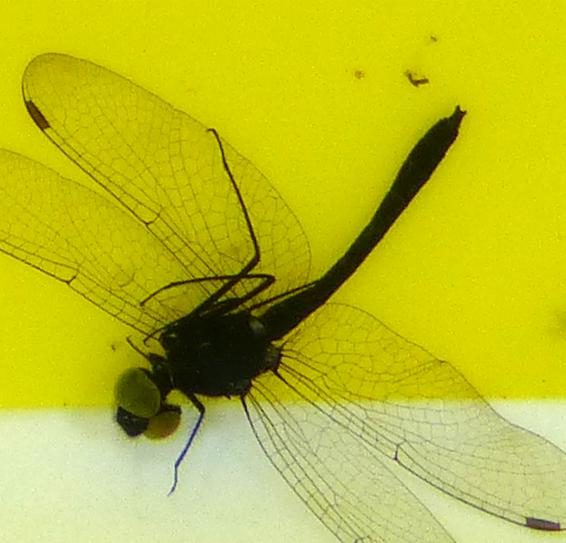Odonata: (100, 100, 466, 443)
